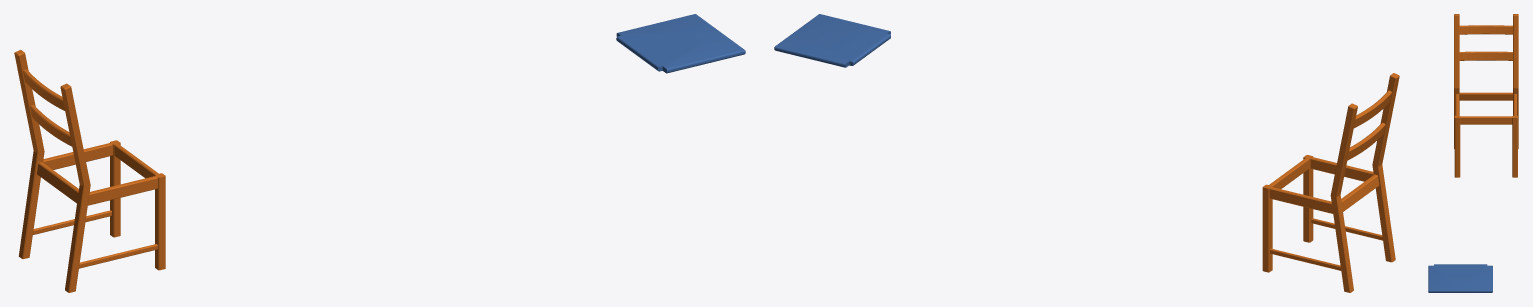
Rendered from chair.glb.
3 views of the same model, side by side, from view 1: azimuth 30°, elevation 25°; view 2: azimuth 150°, elevation 25°; view 3: azimuth 270°, elevation 25° (orthographic). The views are drawn at different scales.
Parts seen in each view (by area): view 1: Legs.001, Cover.001; view 2: Legs.001, Cover.001; view 3: Legs.001, Cover.001.
Boxes of the visible parts, box(x1,y1,x2,y2) form: Legs.001: box(14, 50, 165, 292); Cover.001: box(616, 14, 745, 73); Legs.001: box(1262, 73, 1399, 292); Cover.001: box(774, 14, 890, 67); Legs.001: box(1454, 14, 1518, 177); Cover.001: box(1428, 264, 1492, 292).
Size of the model in its own units: 22.86 by 6.81 by 4.22.
